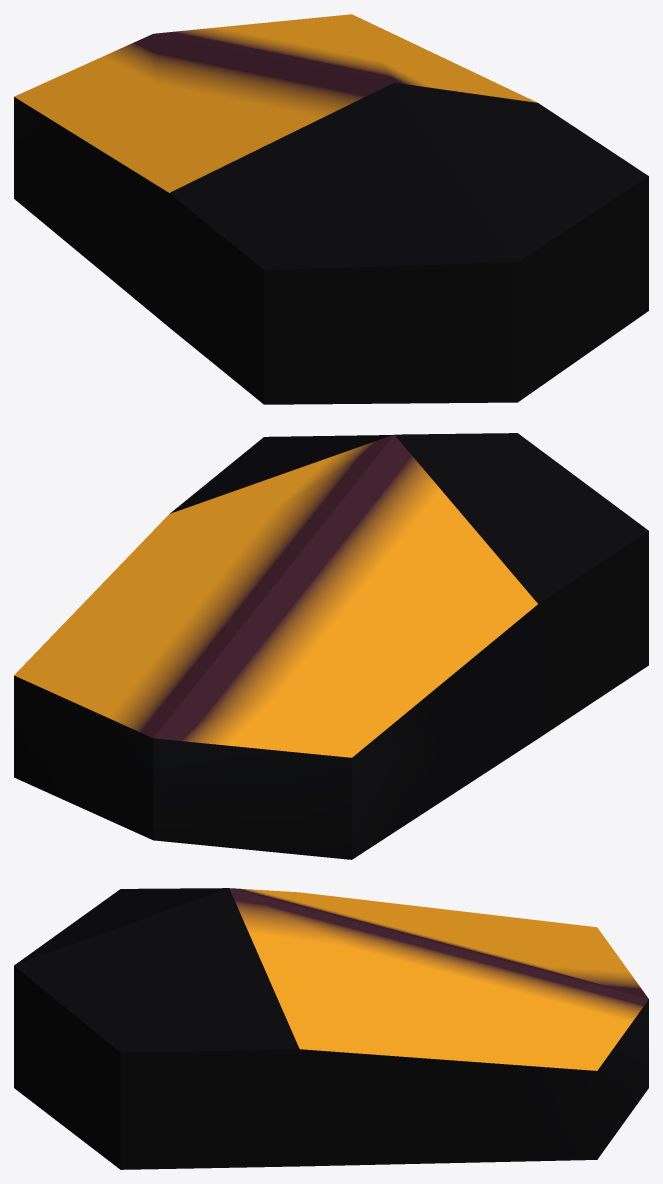
File: Mouse.fbx
3 renders of one model, top to bottom at view 1: azimuth 30°, elevation 25°; view 2: azimuth 150°, elevation 25°; view 3: azimuth 270°, elevation 25°, orthographic. The views are drawn at different scales.
Parts seen in each view (by area): view 1: Куб.073; view 2: Куб.073; view 3: Куб.073.
Boxes of the visible parts, <box> form: Куб.073: <box>14,14,648,404</box>; Куб.073: <box>14,433,648,859</box>; Куб.073: <box>14,888,648,1169</box>.
Size of the model in its own units: 13.24 by 7.54 by 21.71.
